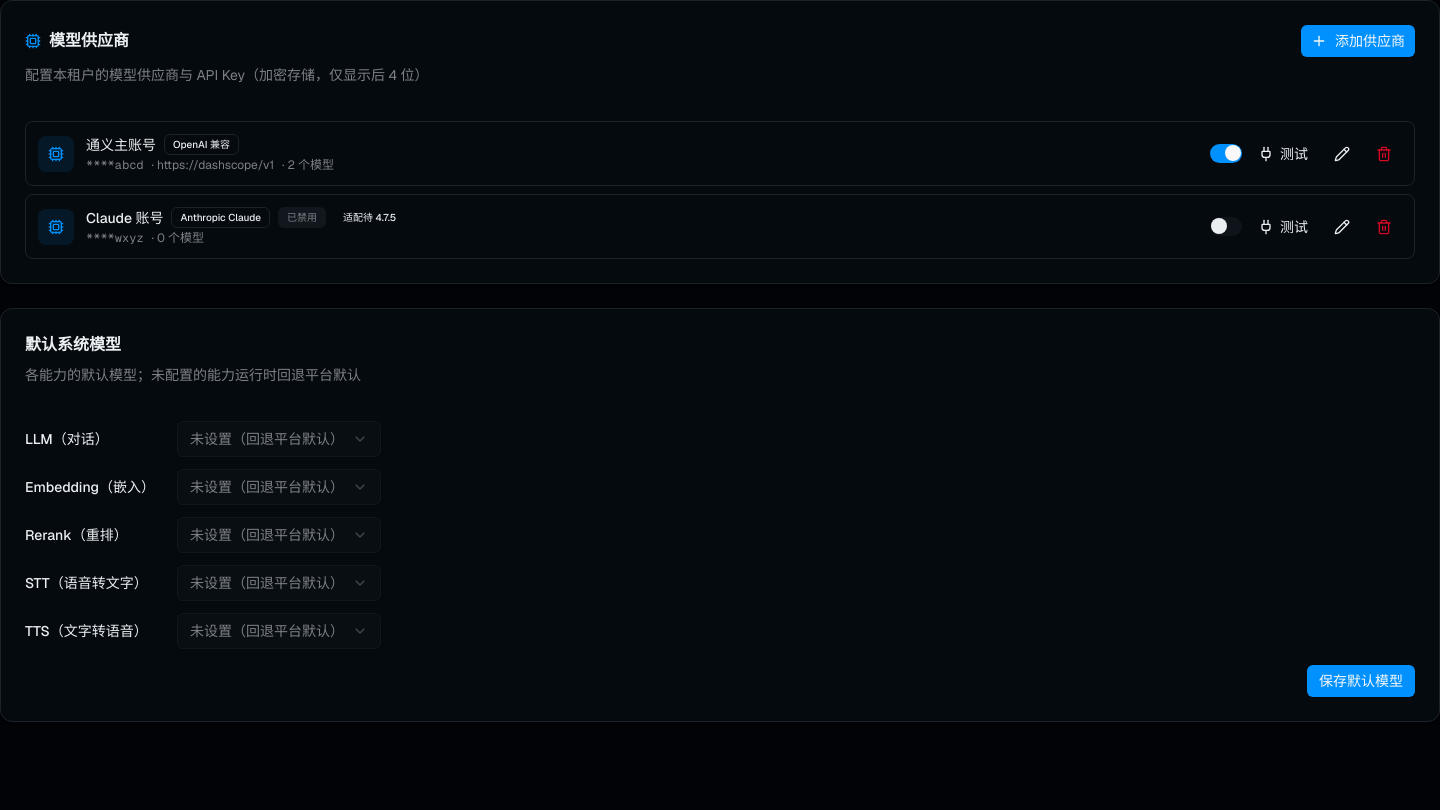
Test: ModelProvidersView › 连通性测试：点击「测试」→ 调 test 端点 → 回显结果
Expected: the text "通义主账号" is shown, [86,134,156,154]
Click the button with test id "test-provider".
click(1283, 154)  # box [1248,138,1318,170]
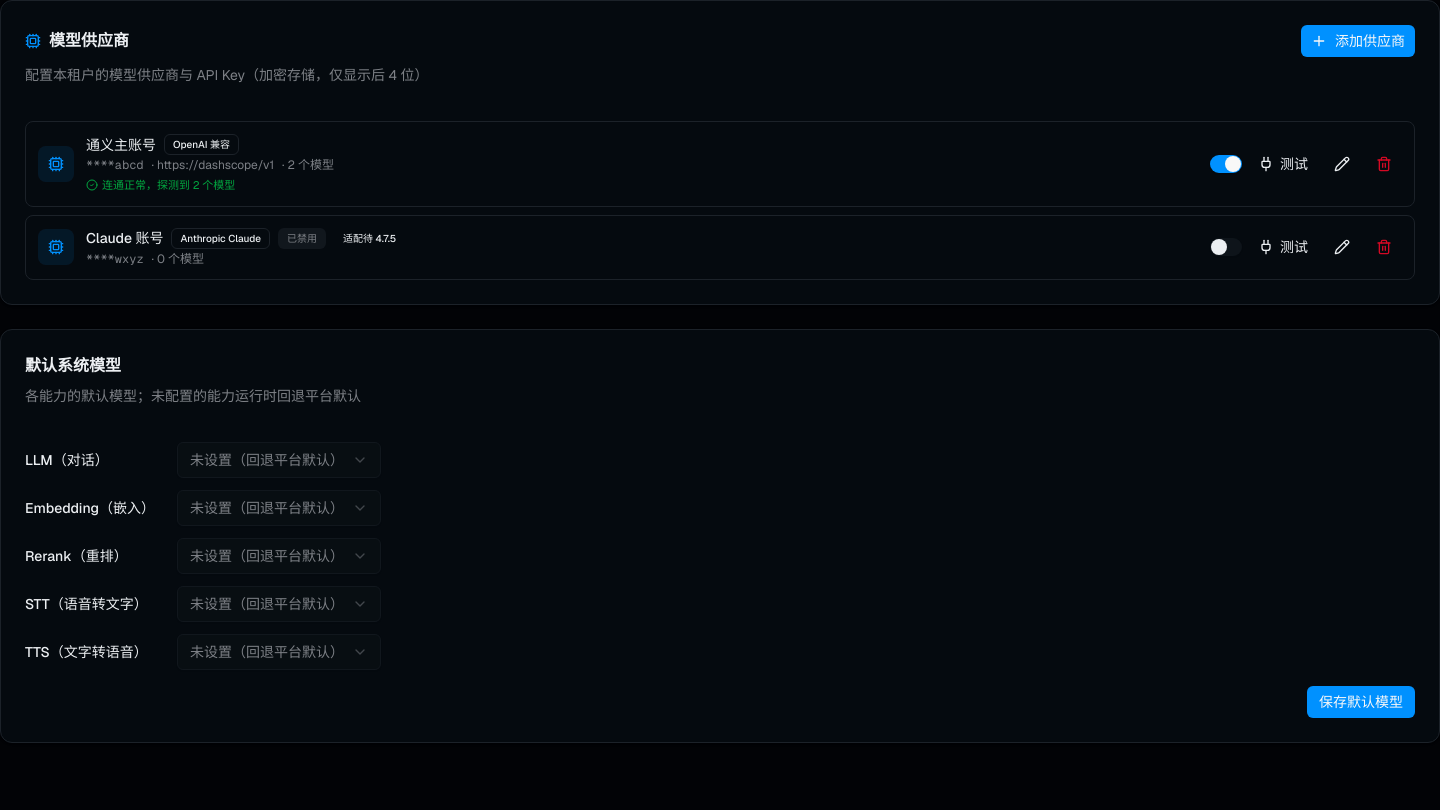
Now the text "连通正常，探测到 2 个模型" is shown, box [86,178,235,192]
